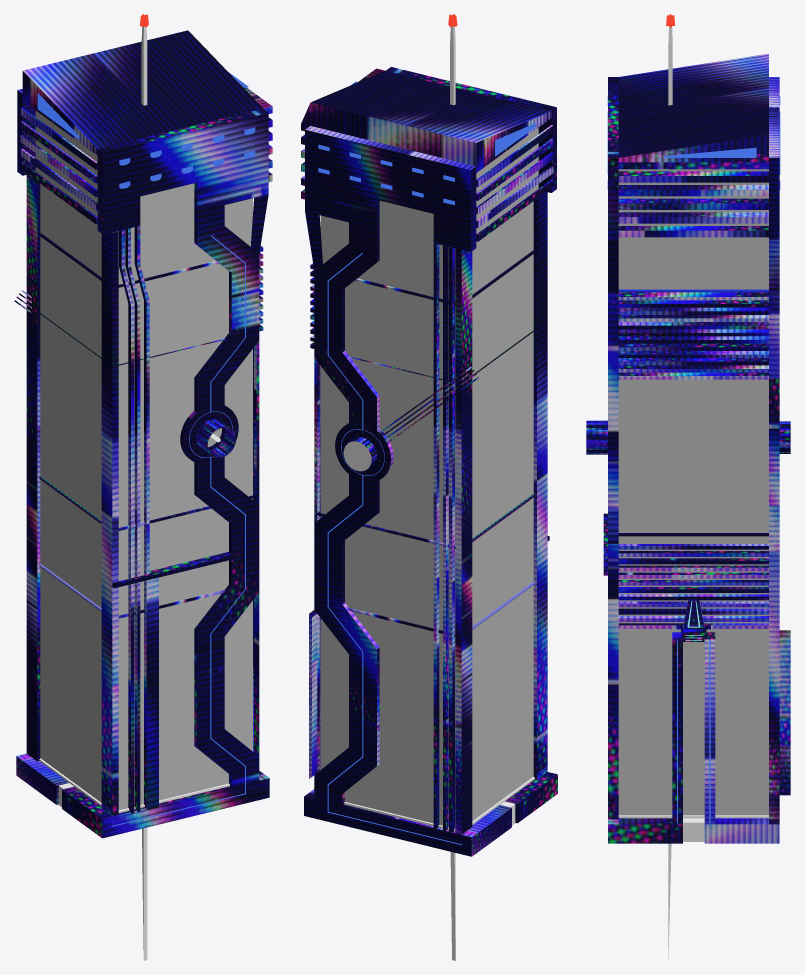
File: building222.gltf
3 views of the same model, side by side, from view 1: azimuth 30°, elevation 25°; view 2: azimuth 150°, elevation 25°; view 3: azimuth 270°, elevation 25° (orthographic).
Visible parts, largest first — view 1: 0_curve_, 0_curve_.036, 0_curve_.037, Plane.056, 0_curve_.035, 0_curve_.016, Cube, 0_curve_.041, 0_curve_.044, 0_curve_.046, 0_curve_.043; view 2: 0_curve_, 0_curve_.037, 0_curve_.036, 0_curve_.034, Plane.056, 0_curve_.016, 0_curve_.038, 0_curve_.041, 0_curve_.043, 0_curve_.046, 0_curve_.044, Cube.001; view 3: 0_curve_, 0_curve_.036, 0_curve_.037, 0_curve_.018, 0_curve_.014, Plane.056, 0_curve_.044, 0_curve_.015, 0_curve_.046, 0_curve_.021, 0_curve_.041.
Boxes of the visible parts, x1=… form: 0_curve_: x1=35, y1=111, x2=252, y2=810; 0_curve_.036: x1=20, y1=30, x2=272, y2=838; 0_curve_.037: x1=14, y1=89, x2=68, y2=804; Plane.056: x1=140, y1=14, x2=148, y2=960; 0_curve_.035: x1=111, y1=235, x2=245, y2=826; 0_curve_.016: x1=22, y1=71, x2=97, y2=155; Cube: x1=119, y1=127, x2=255, y2=188; 0_curve_.041: x1=39, y1=758, x2=229, y2=813; 0_curve_.044: x1=39, y1=476, x2=256, y2=530; 0_curve_.046: x1=39, y1=233, x2=218, y2=287; 0_curve_.043: x1=39, y1=563, x2=225, y2=618; 0_curve_: x1=320, y1=128, x2=538, y2=828; 0_curve_.037: x1=304, y1=126, x2=511, y2=856; 0_curve_.036: x1=301, y1=67, x2=557, y2=823; 0_curve_.034: x1=327, y1=253, x2=462, y2=845; Plane.056: x1=448, y1=14, x2=457, y2=960; 0_curve_.016: x1=476, y1=111, x2=551, y2=172; 0_curve_.038: x1=343, y1=441, x2=371, y2=471; 0_curve_.041: x1=344, y1=777, x2=534, y2=831; 0_curve_.043: x1=348, y1=582, x2=534, y2=636; 0_curve_.046: x1=354, y1=250, x2=534, y2=304; 0_curve_.044: x1=317, y1=494, x2=534, y2=548; Cube.001: x1=318, y1=144, x2=454, y2=205; 0_curve_: x1=618, y1=169, x2=768, y2=815; 0_curve_.036: x1=586, y1=53, x2=768, y2=843; 0_curve_.037: x1=676, y1=77, x2=790, y2=843; 0_curve_.018: x1=704, y1=639, x2=715, y2=823; 0_curve_.014: x1=618, y1=134, x2=768, y2=162; Plane.056: x1=666, y1=14, x2=674, y2=959; 0_curve_.044: x1=618, y1=533, x2=768, y2=536; 0_curve_.015: x1=663, y1=147, x2=756, y2=157; 0_curve_.046: x1=618, y1=289, x2=768, y2=292; 0_curve_.021: x1=683, y1=818, x2=704, y2=841; 0_curve_.041: x1=618, y1=815, x2=768, y2=818.
Bounding box in the file's own units: 3.45 × 16.56 × 3.24.
